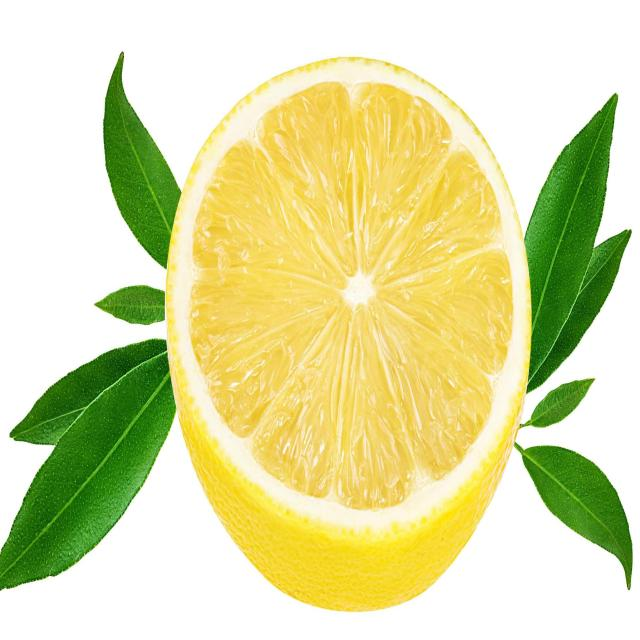lemon: (156, 44, 534, 624)
